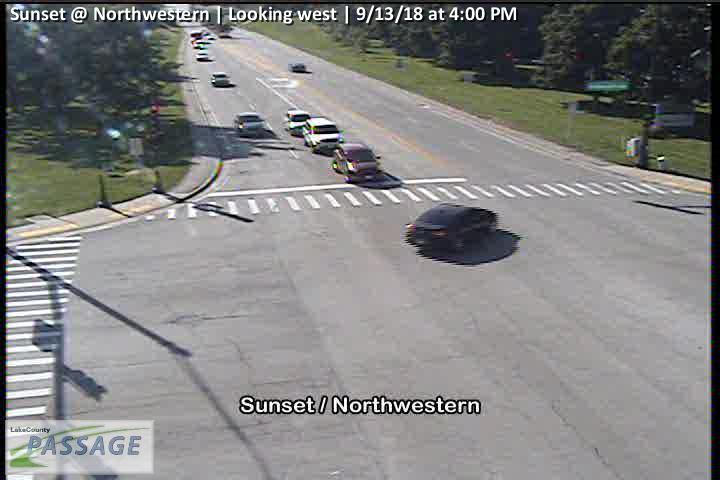SUV: (333, 144, 383, 182), (302, 117, 343, 154), (234, 113, 264, 138), (286, 109, 310, 138), (211, 73, 229, 87)
Sedan: (405, 204, 497, 249), (288, 62, 305, 73), (196, 52, 208, 61)
